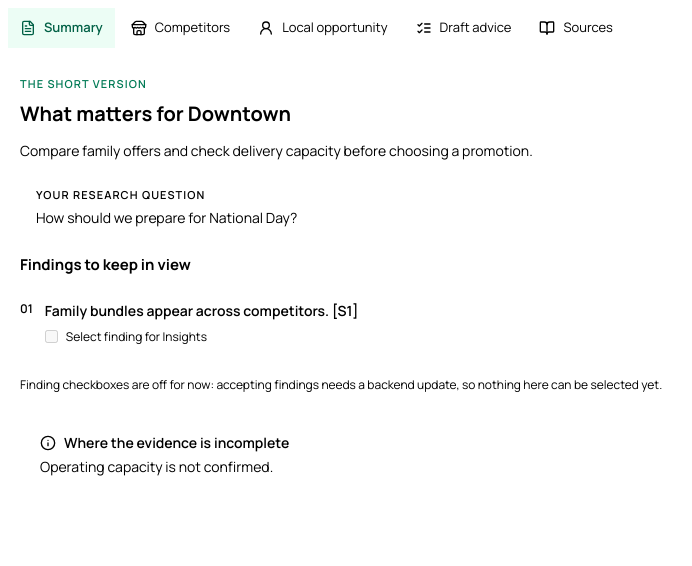
it: ReportReaderView › leads the summary with question and findings, keeping local meaning in its own section
The image size is (692, 566).
Expected: the heading "What matters for Downtown" is shown, [20,100,291,127]
Expected: the text "delivery capacity" is shown, [20,141,533,160]
Click the button "Local opportunity".
click(323, 28)  # box [246,8,400,48]
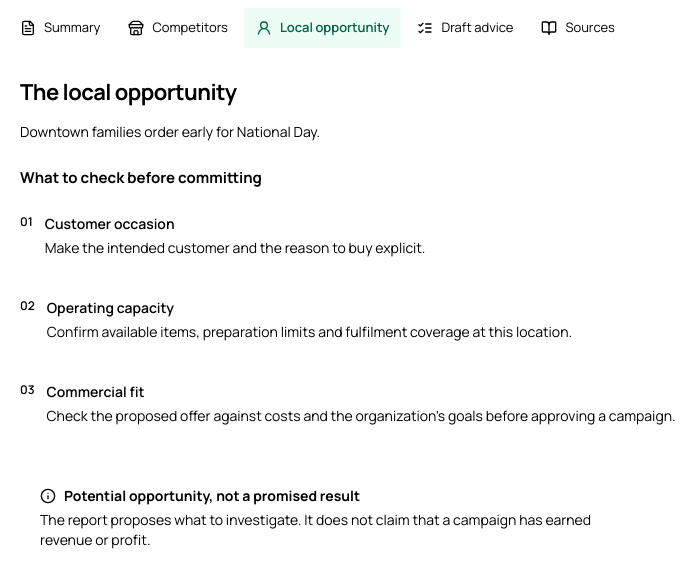
Now the heading "The local opportunity" is shown, box [20,76,236,106]
Now the text "Downtown families order early for National Day." is shown, box [20,122,320,140]
